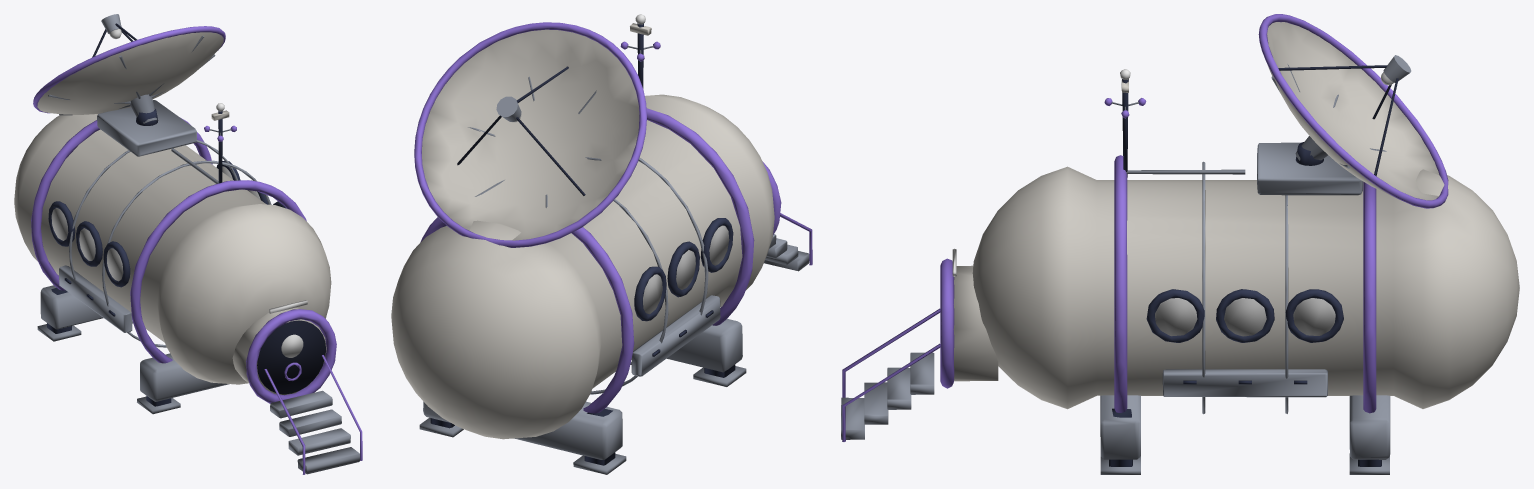
The model's file is lab_low.glb.
3 renders of one model, left to right at view 1: azimuth 30°, elevation 25°; view 2: azimuth 150°, elevation 25°; view 3: azimuth 270°, elevation 25°, orthographic. The views are drawn at different scales.
Parts seen in each view (by area): view 1: lab, dish; view 2: lab, dish; view 3: lab, dish.
Boxes of the visible parts, box(x1,y1,x2,y2) form: lab: box(14, 100, 362, 474); dish: box(33, 14, 225, 123); lab: box(391, 14, 812, 474); dish: box(414, 22, 646, 247); lab: box(841, 69, 1519, 474); dish: box(1258, 14, 1448, 208).
Bounding box in the file's own units: 5.76 × 9.5 × 14.71.
